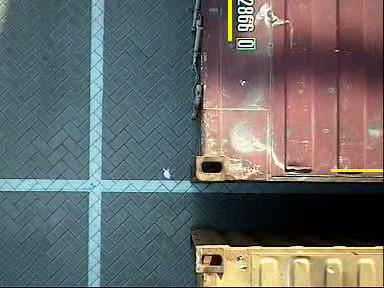groundmarker_2: (137, 120, 193, 159)
